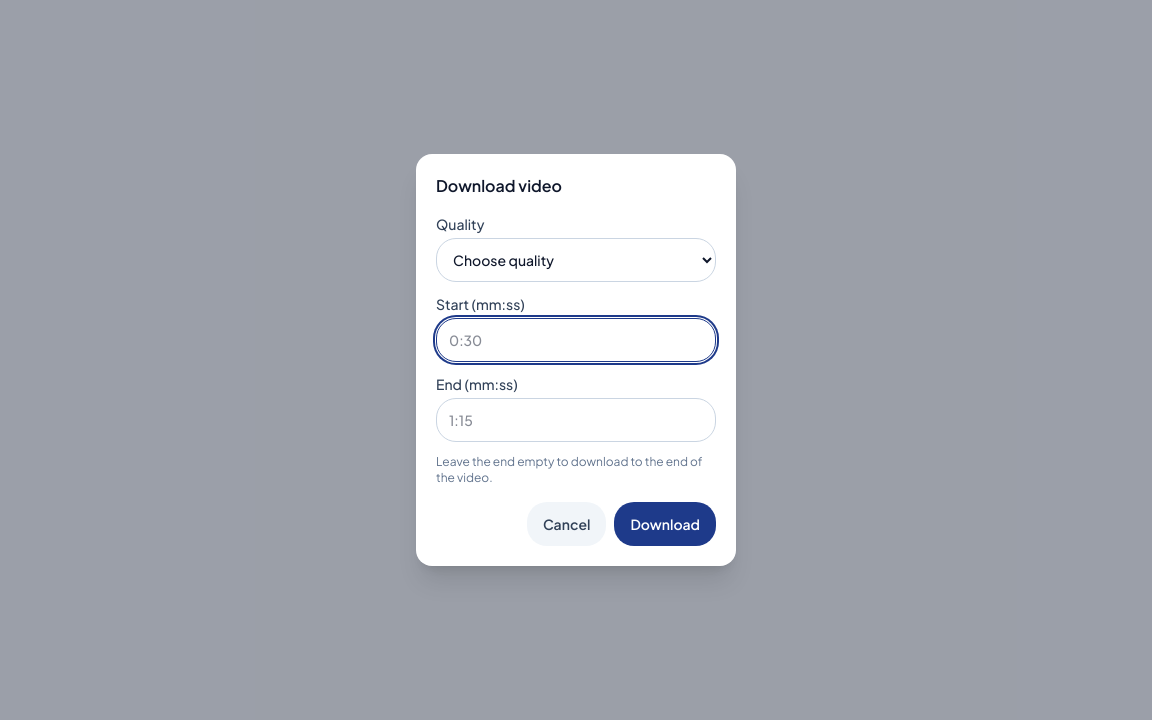
Test: VideoDownloadDialog › refuses a time it cannot read
The width and height of the screenshot is (1152, 720).
In the field labelled "Start (mm:ss)": {"x": 576, "y": 340} [436,318,716,362], type "abc"
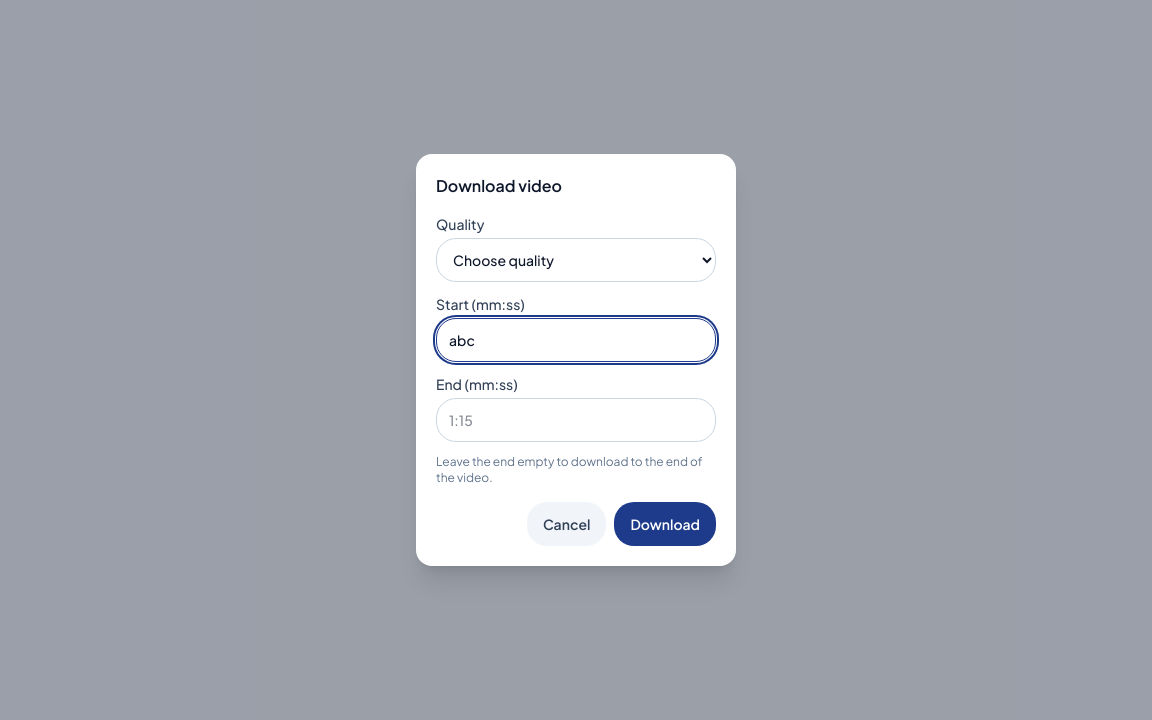
Click the button "Download": {"x": 665, "y": 524} [614,502,716,546]
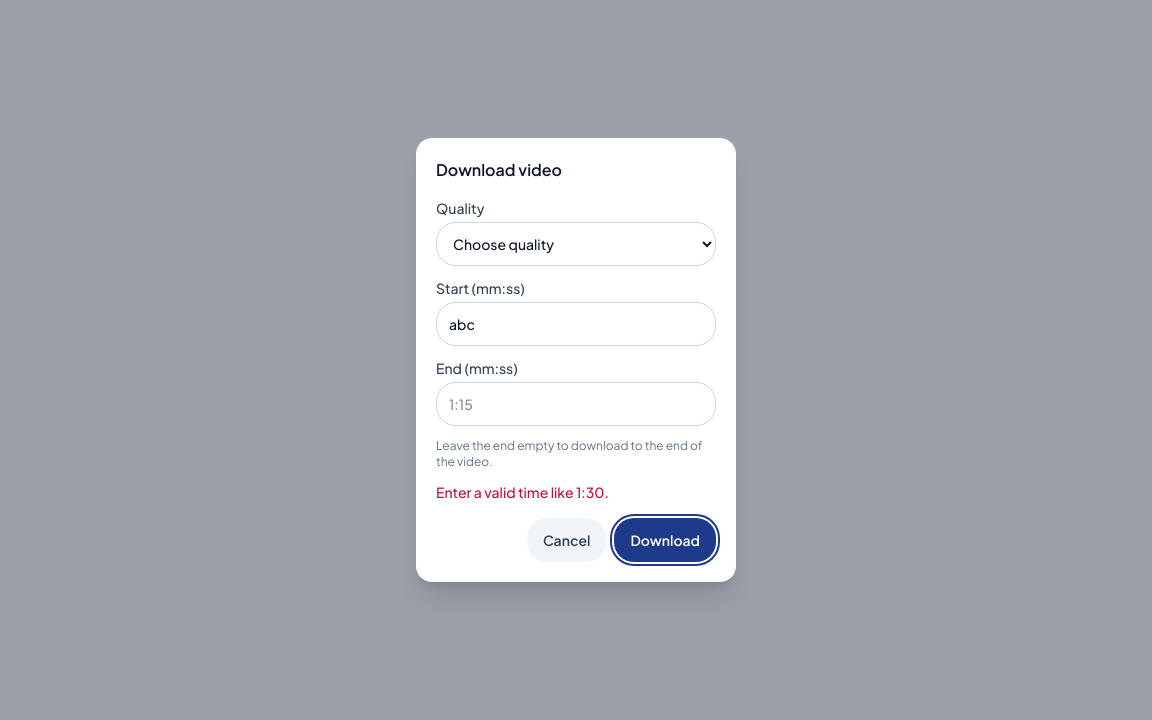
Result: the message reads "Enter a valid time like 1:30." at [436,483,609,501]
